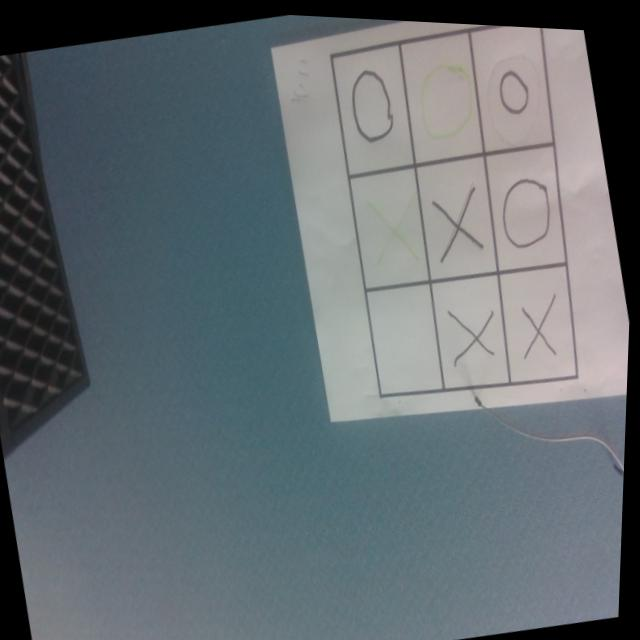null: (365, 275, 451, 396)
o: (413, 53, 486, 140), (495, 167, 561, 249), (345, 62, 401, 143), (495, 63, 534, 114)
table: (318, 13, 612, 414)
x: (360, 184, 431, 282), (429, 176, 490, 262), (446, 294, 505, 363), (515, 286, 568, 356)
